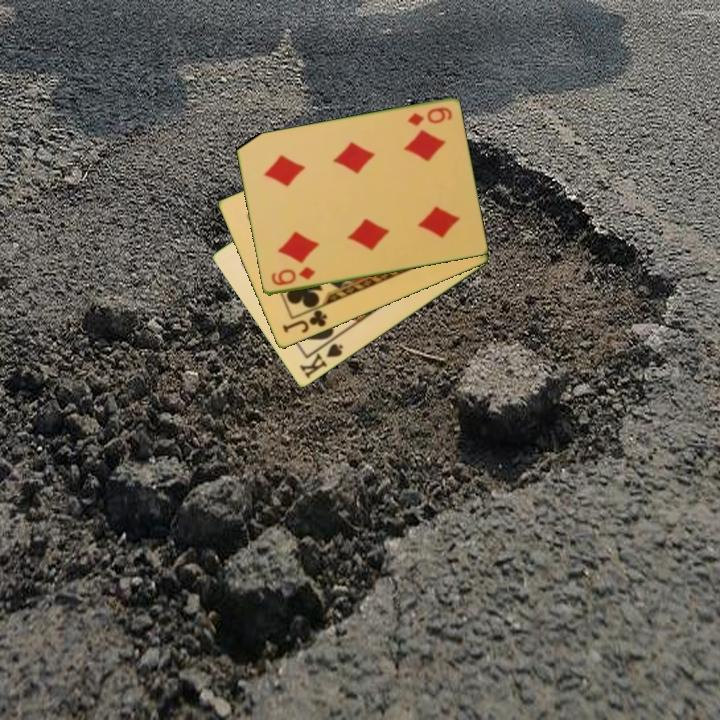6d: (267, 263, 318, 289), (404, 104, 455, 129)
Jc: (279, 306, 330, 336)
Ks: (296, 334, 346, 382)
